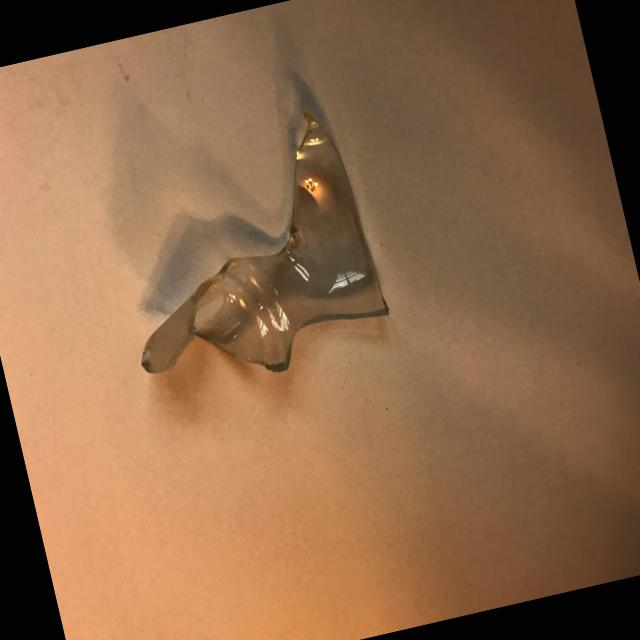Glass: (78, 82, 405, 426)
